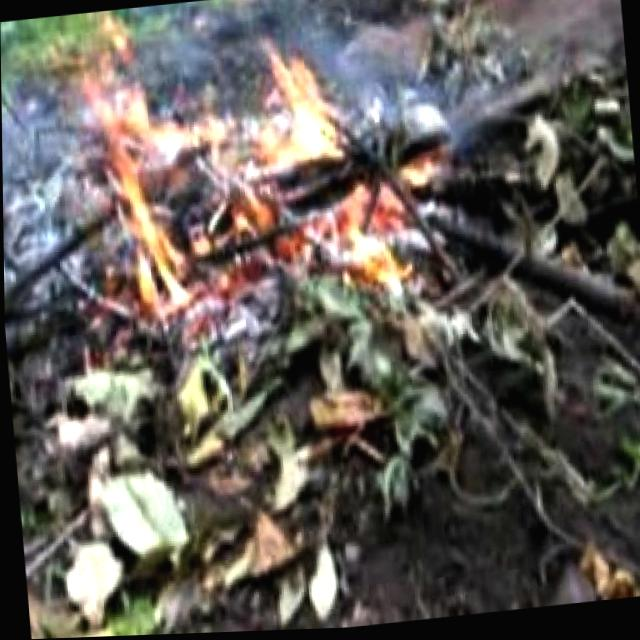Fire: (80, 21, 416, 314)
